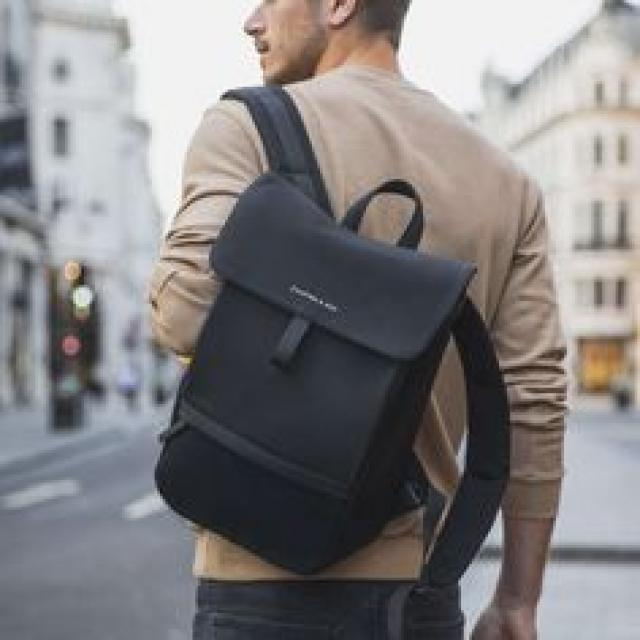handbag: (150, 166, 486, 596)
